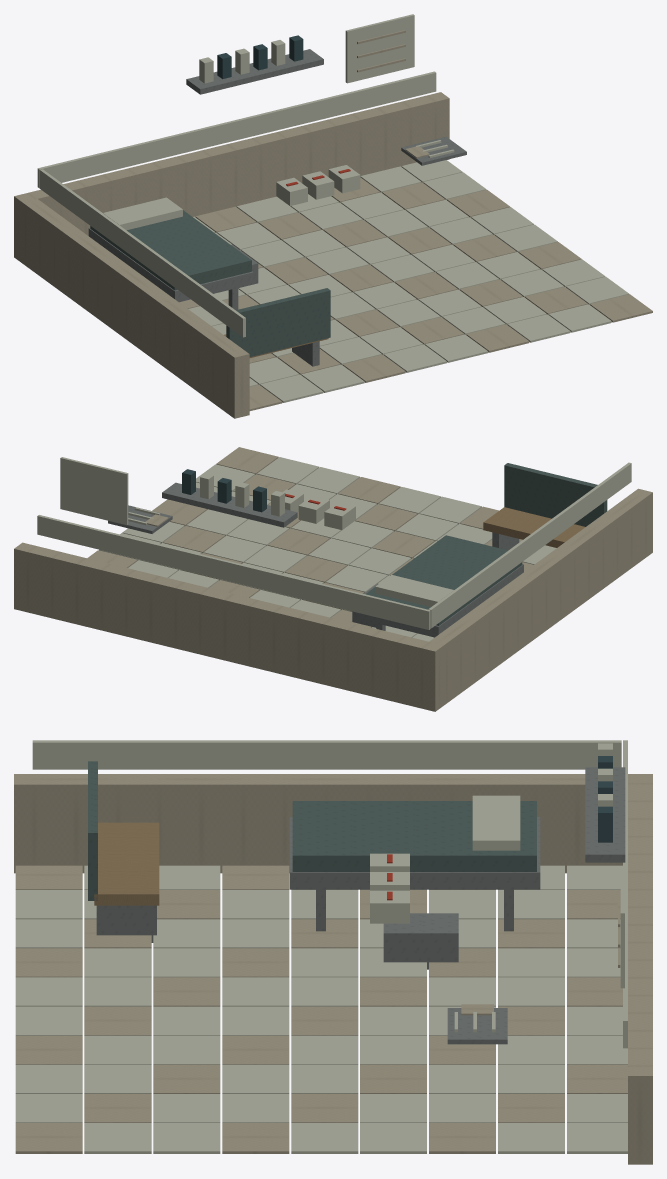
Rendered from clinic_details.glb.
3 renders of one model, top to bottom at view 1: azimuth 30°, elevation 25°; view 2: azimuth 150°, elevation 25°; view 3: azimuth 270°, elevation 25°, orthographic. The views are drawn at different scales.
Visible parts, largest first — view 1: DD_Cut_Back, DD_Cut_West, DD_Hide_BackBand, DD_Keep_ExamPad, DD_Hide_WestBand, DD_Keep_WaitBack, DD_Hide_BackChart, DD_Hide_BackShelf, DD_Keep_ExamFrame, DD_Keep_ExamPillow, DD_Keep_ClinicTile.054, DD_Keep_ClinicTile.018 (+61 smaller); view 2: DD_Cut_Back, DD_Cut_West, DD_Hide_BackBand, DD_Hide_WestBand, DD_Keep_ExamPad, DD_Hide_BackChart, DD_Keep_WaitBack, DD_Hide_BackShelf, DD_Keep_WaitSeat, DD_Keep_ExamPillow, DD_Keep_ExamFrame, DD_Keep_ClinicTile.036 (+36 smaller); view 3: DD_Cut_West, DD_Hide_WestBand, DD_Keep_ExamPad, DD_Cut_Back, DD_Keep_WaitSeat, DD_Keep_ExamFrame, DD_Keep_ExamStep, DD_Hide_BackShelf, DD_Keep_ExamPillow, DD_Keep_ClinicTile.081, DD_Keep_ClinicTile.082, DD_Keep_ClinicTile.083 (+89 smaller).
Boxes of the visible parts, x1,y1,x2,y2 form: DD_Cut_Back: (14,92,449,259); DD_Cut_West: (18,199,249,418); DD_Hide_BackBand: (37,71,436,188); DD_Keep_ExamPad: (90,210,251,290); DD_Hide_WestBand: (39,169,245,337); DD_Keep_WaitBack: (226,288,330,356); DD_Hide_BackChart: (345,14,414,83); DD_Hide_BackShelf: (186,49,323,94); DD_Keep_ExamFrame: (88,228,253,302); DD_Keep_ExamPillow: (103,197,182,230); DD_Keep_ClinicTile.054: (466,324,529,352); DD_Keep_ClinicTile.018: (301,364,364,392); DD_Cut_Back: (14,542,443,711); DD_Cut_West: (428,488,652,707); DD_Hide_BackBand: (37,515,430,629); DD_Hide_WestBand: (428,462,631,628); DD_Keep_ExamPad: (366,535,522,625); DD_Hide_BackChart: (60,457,128,525); DD_Keep_WaitBack: (504,463,607,526); DD_Hide_BackShelf: (162,482,297,527); DD_Keep_WaitSeat: (483,507,585,547); DD_Keep_ExamPillow: (375,574,453,606); DD_Keep_ExamFrame: (361,564,523,637); DD_Keep_ClinicTile.036: (419,496,481,524); DD_Cut_West: (14,774,640,873); DD_Hide_WestBand: (32,740,621,769); DD_Keep_ExamPad: (292,801,536,871); DD_Cut_Back: (628,774,652,1164); DD_Keep_WaitSeat: (94,822,159,905); DD_Keep_ExamFrame: (289,817,540,889); DD_Keep_ExamStep: (383,913,458,969); DD_Hide_BackShelf: (585,767,625,862); DD_Keep_ExamPillow: (472,795,520,850); DD_Keep_ClinicTile.081: (15,1123,82,1153); DD_Keep_ClinicTile.082: (84,1123,151,1153); DD_Keep_ClinicTile.083: (153,1123,220,1153).
Bounding box in the file's own units: 5.7 × 2.12 × 5.1.
Materials: 8 (5 with a texture image).
